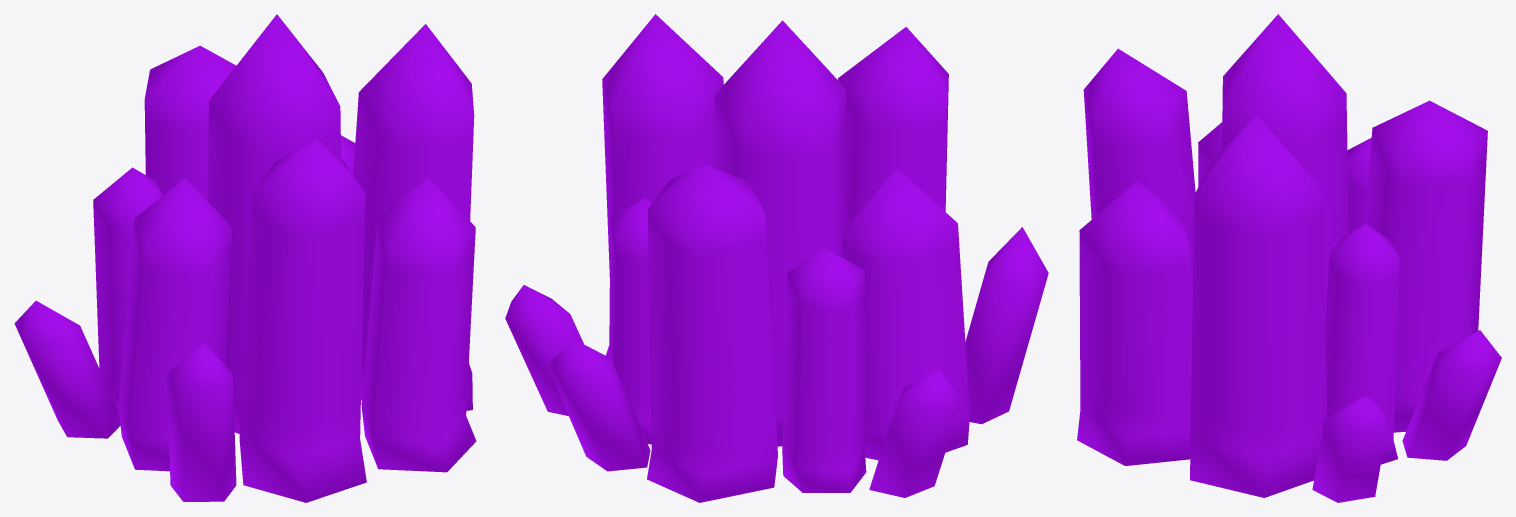
The model's file is Crystal Asset.glb.
3 renders of one model, left to right at view 1: azimuth 30°, elevation 25°; view 2: azimuth 150°, elevation 25°; view 3: azimuth 270°, elevation 25°, orthographic.
Visible parts, largest first — view 1: Circle.002; view 2: Circle.002; view 3: Circle.002.
Part boxes in pixels (<box>): Circle.002: <box>14,14,476,502</box>; Circle.002: <box>505,14,1048,502</box>; Circle.002: <box>1077,14,1501,502</box>.
Bounding box in the file's own units: 6.98 × 5.93 × 5.8.
